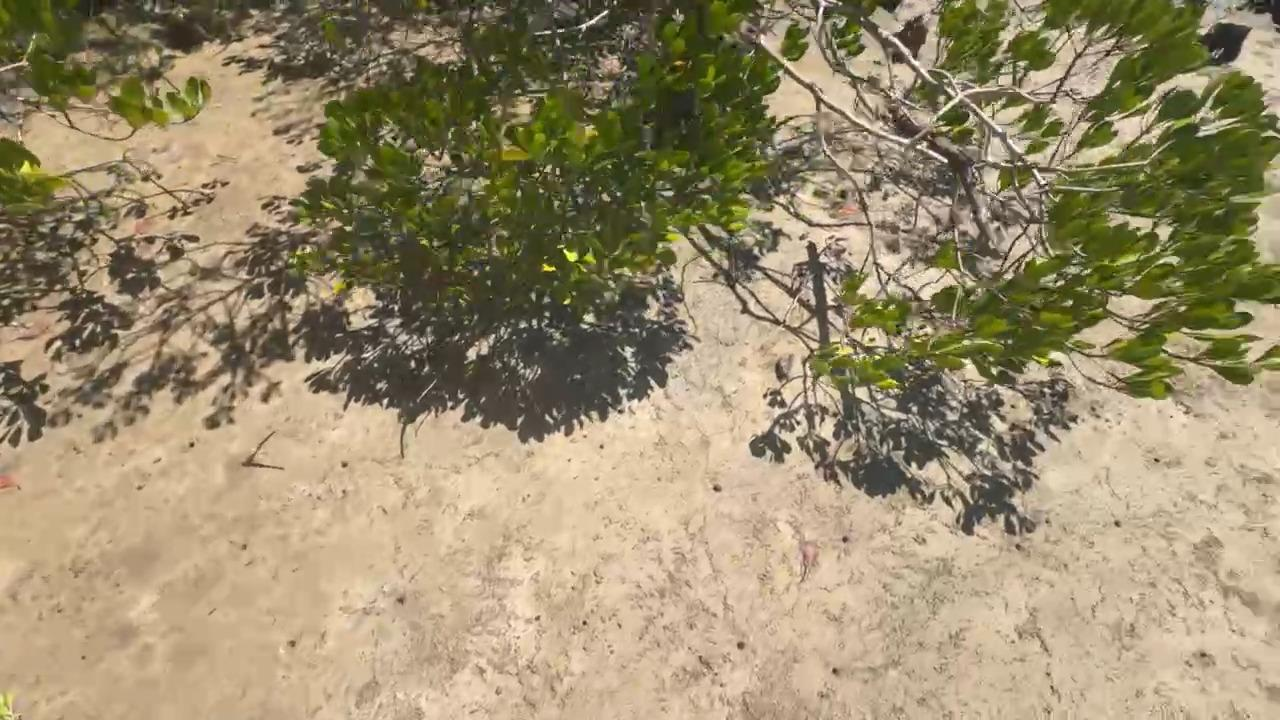Tree: (243, 431, 278, 466)
